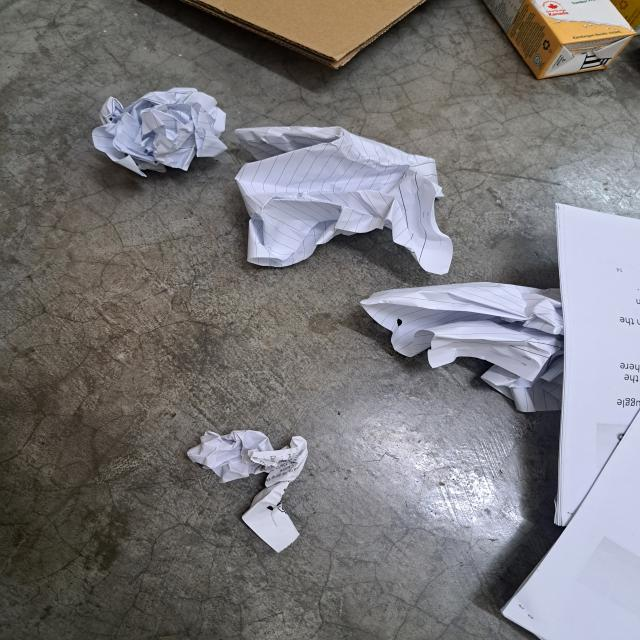cardboard: (172, 0, 437, 72)
drink carton: (476, 0, 640, 82)
paper: (497, 204, 640, 640), (232, 125, 452, 275), (361, 283, 567, 413), (188, 430, 308, 552), (92, 86, 228, 178)
